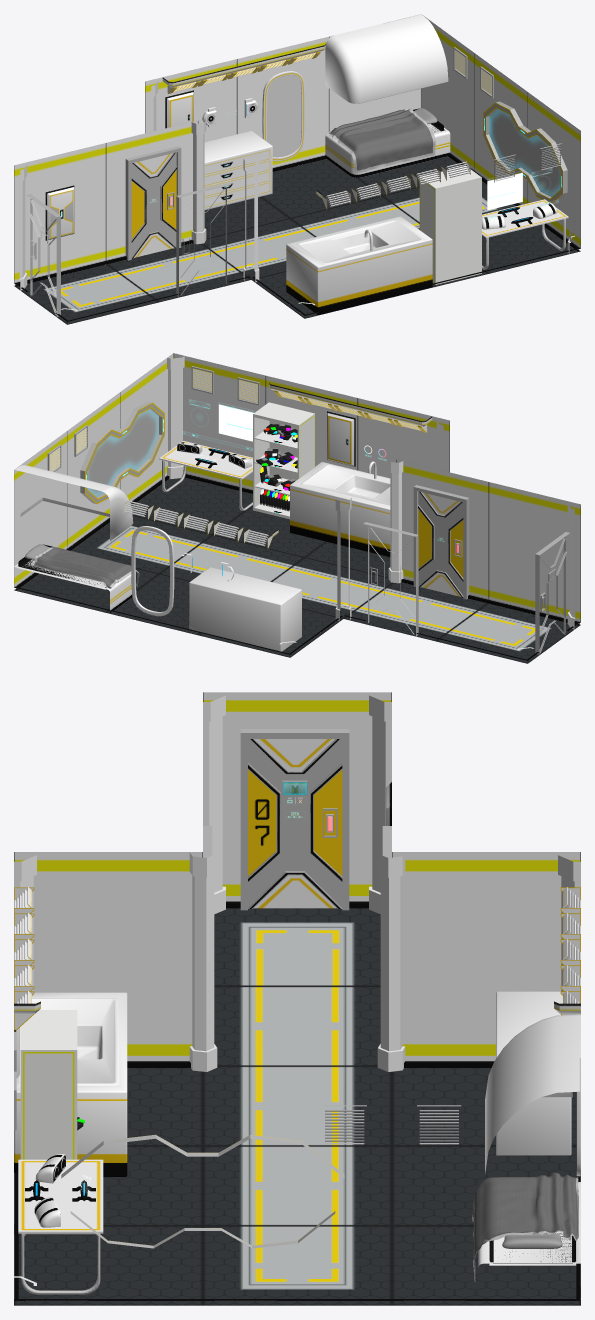
File: bedroom.glb
3 views of the same model, one above another, from view 1: azimuth 30°, elevation 25°; view 2: azimuth 150°, elevation 25°; view 3: azimuth 270°, elevation 25° (orthographic). The views are drawn at different scales.
Parts seen in each view (by area): view 1: Wall.013, Bed_Ceiling, Sink_Base, Bookshelf, Wall.001, Door, Wall_Door, Window, Floor_Panel.001, Blanket, Floor_Panel, Wall.003 (+33 smaller); view 2: Wall.014, Drawer_Chest, Wall.008, Sink_Base, Door.002, Wall_Door.002, Wall.003, Window, Wall.010, Floor_Panel.001, Floor_Panel, Floor_Panel.003 (+29 smaller); view 3: Wall.012, Wall.011, Door.001, Floor_Panel.004, Floor_Panel.002, Floor_Panel.003, Wall_Door.001, Floor_Panel.001, Floor_Panel, Floor_Panel.006, Floor_Panel.005, Floor_Panel.007 (+20 smaller).
Part boxes in pixels (x1,y1,x2,y2): Wall.013: (14,143,107,286); Bed_Ceiling: (325,14,448,103); Sink_Base: (286,216,432,314); Bookshelf: (419,165,481,284); Wall.001: (237,36,329,171); Door: (125,146,181,260); Wall_Door: (106,120,198,264); Window: (483,101,567,203); Floor_Panel.001: (108,243,250,302); Blanket: (326,108,435,173); Floor_Panel: (14,264,158,324); Wall.003: (421,15,474,170); Wall.014: (487,482,580,625); Drawer_Chest: (189,567,301,651); Wall.008: (173,353,265,494); Sink_Base: (290,462,390,556); Door.002: (413,485,469,599); Wall_Door.002: (396,459,488,603); Wall.003: (14,431,69,590); Window: (80,401,164,503); Wall.010: (357,398,449,478); Floor_Panel.001: (344,582,486,641); Floor_Panel: (436,603,580,663); Floor_Panel.003: (71,515,211,573); Wall.012: (392,852,580,1067); Wall.011: (14,852,202,1067); Door.001: (240,729,349,910); Floor_Panel.004: (203,1146,391,1225); Floor_Panel.002: (203,1066,391,1145); Floor_Panel.003: (203,1226,391,1305); Wall_Door.001: (203,692,391,908); Floor_Panel.001: (214,986,380,1065); Floor_Panel: (214,908,380,986); Floor_Panel.006: (14,1226,202,1305); Floor_Panel.005: (392,1226,580,1305); Floor_Panel.007: (392,1146,576,1225).
Size of the model in its own units: 10 by 2.5 by 6.
Materials: 54 (38 with a texture image).
